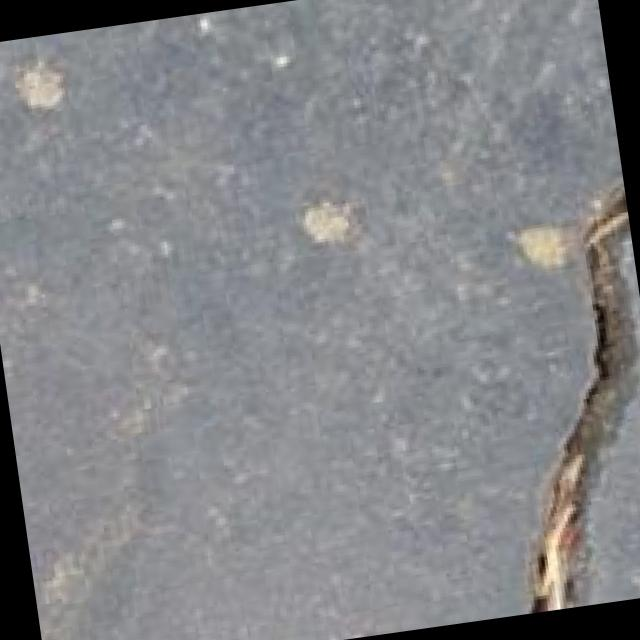crack: (449, 158, 640, 612)
